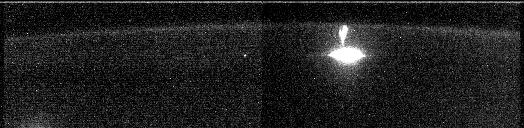positive: (336, 23, 349, 46)
